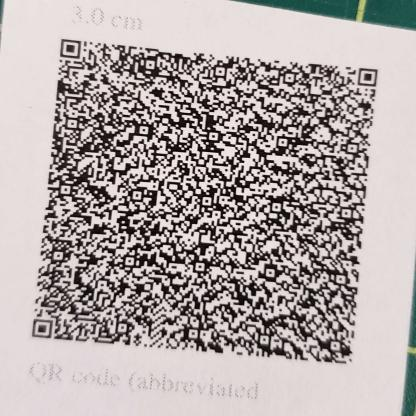qr: (25, 34, 383, 372)
